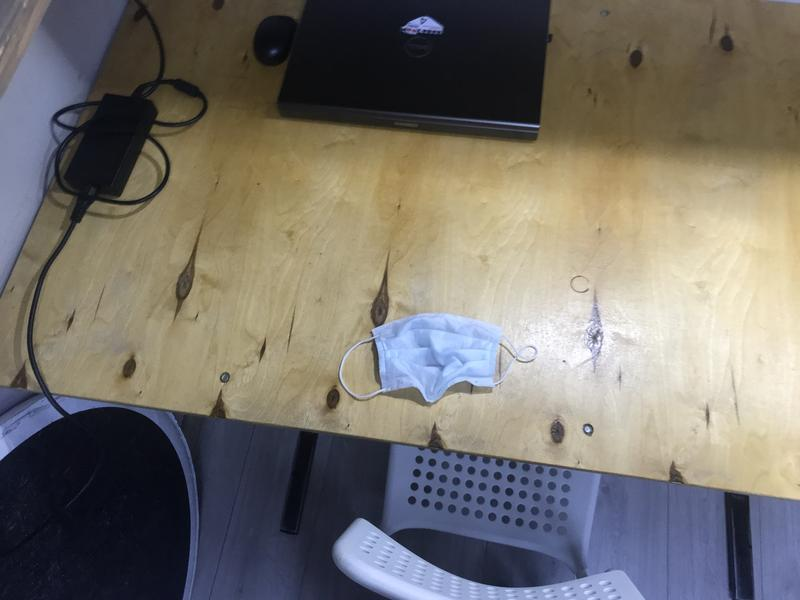medical_mask: (340, 314, 538, 403)
